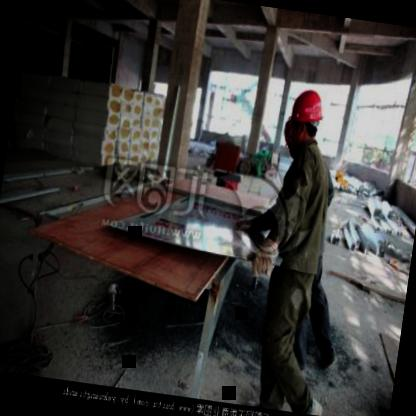helmet: (284, 84, 326, 148), (280, 116, 308, 162)
